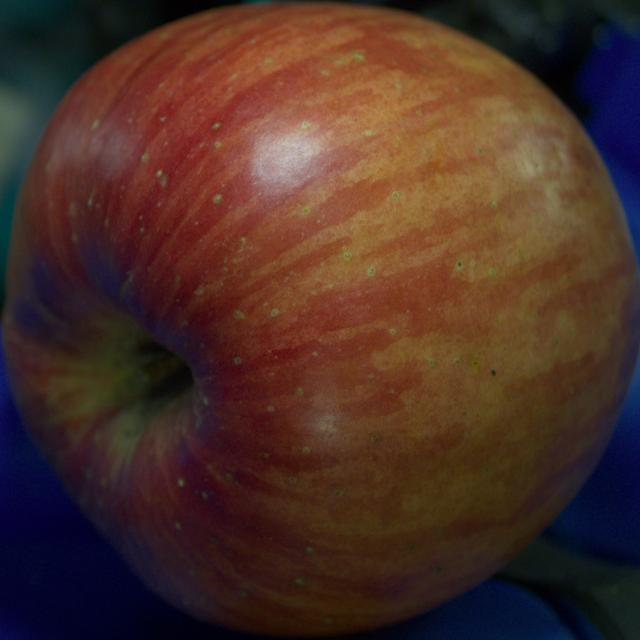apple: (2, 2, 639, 636)
